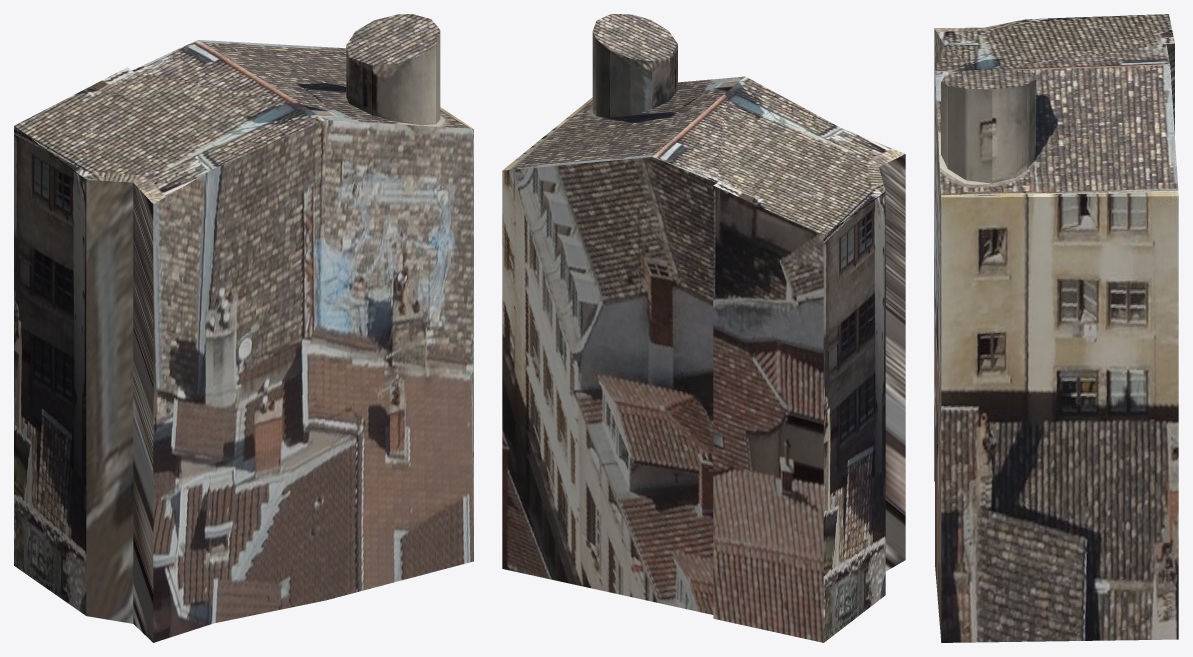
3 renders of one model, left to right at view 1: azimuth 30°, elevation 25°; view 2: azimuth 150°, elevation 25°; view 3: azimuth 270°, elevation 25°, orthographic. The views are drawn at different scales.
Parts seen in each view (by area): view 1: Z_UP; view 2: Z_UP; view 3: Z_UP.
Boxes of the visible parts, x1,y1,x2,y2 form: Z_UP: (14,14,473,642); Z_UP: (502,14,905,642); Z_UP: (934,14,1178,642).
Bounding box in the file's own units: 15.66 × 22.64 × 9.22.
Materials: 2 (1 with a texture image).
